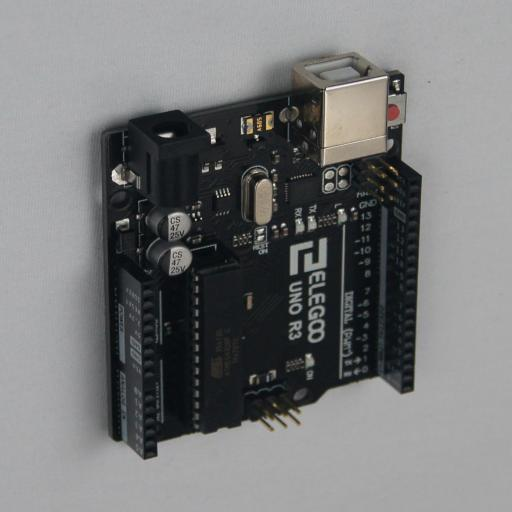Arduino Uno -Black-: (92, 56, 422, 460)
